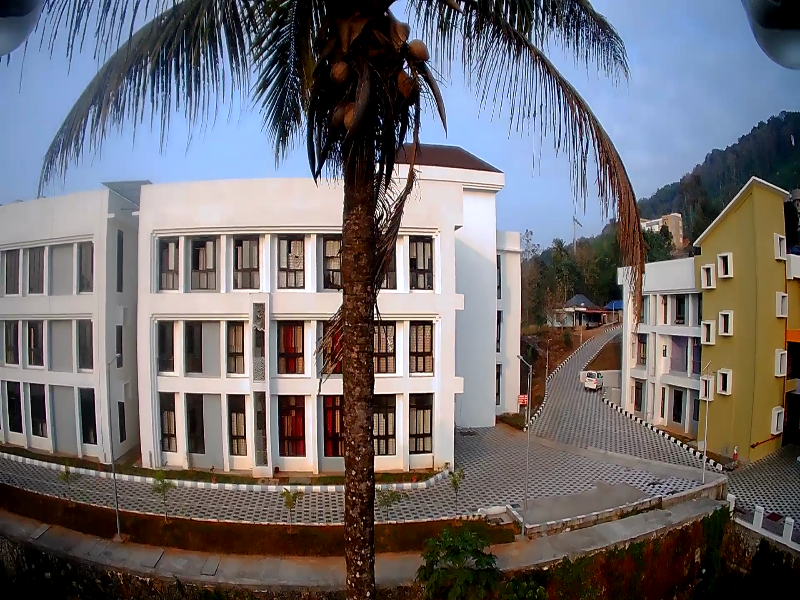coconut: (395, 69, 418, 100), (407, 38, 433, 64), (343, 102, 362, 130), (329, 59, 349, 81), (327, 104, 344, 129)
